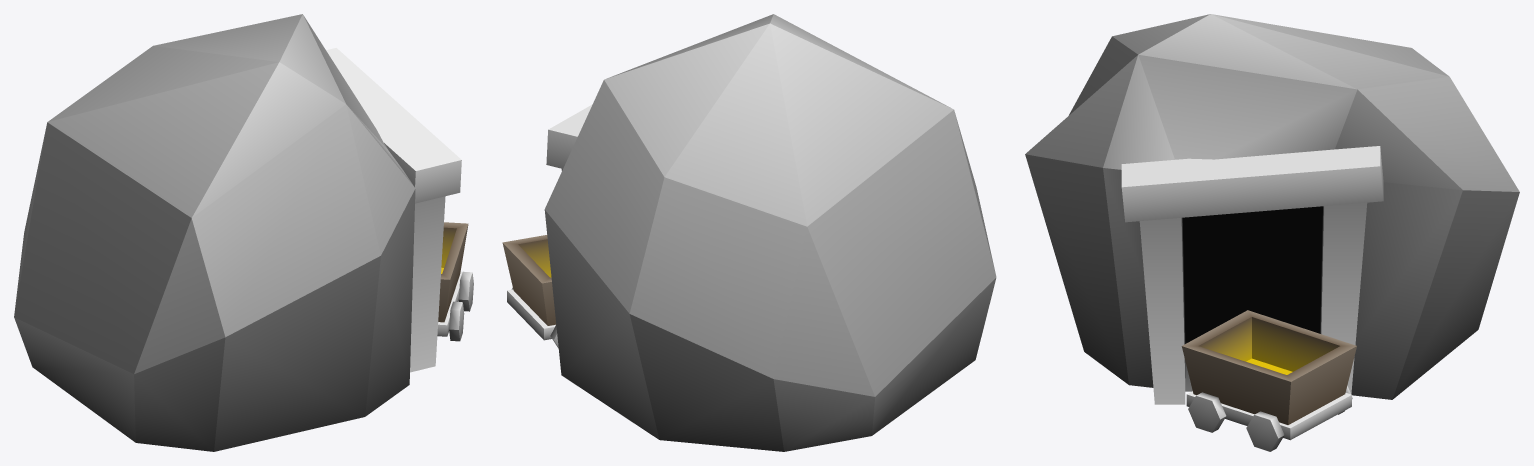
The model's file is Mineshaft.fbx.
3 renders of one model, left to right at view 1: azimuth 30°, elevation 25°; view 2: azimuth 150°, elevation 25°; view 3: azimuth 270°, elevation 25°, orthographic. The views are drawn at different scales.
Visible parts, largest first — view 1: Rock, Shaft Entrancer; view 2: Rock, Shaft Entrancer; view 3: Rock, Shaft Entrancer.
Boxes of the visible parts, left/top/right/bottom form: Rock: left=14, top=14, right=415, bottom=451; Shaft Entrancer: left=326, top=48, right=473, bottom=372; Rock: left=544, top=14, right=996, bottom=451; Shaft Entrancer: left=502, top=104, right=592, bottom=348; Rock: left=1025, top=14, right=1519, bottom=399; Shaft Entrancer: left=1121, top=146, right=1383, bottom=451.
Bounding box in the file's own units: 417 × 305 × 420.
